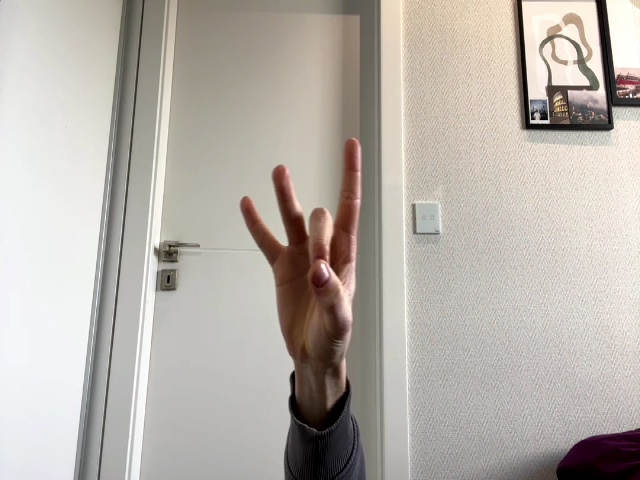G: (242, 138, 362, 359)
